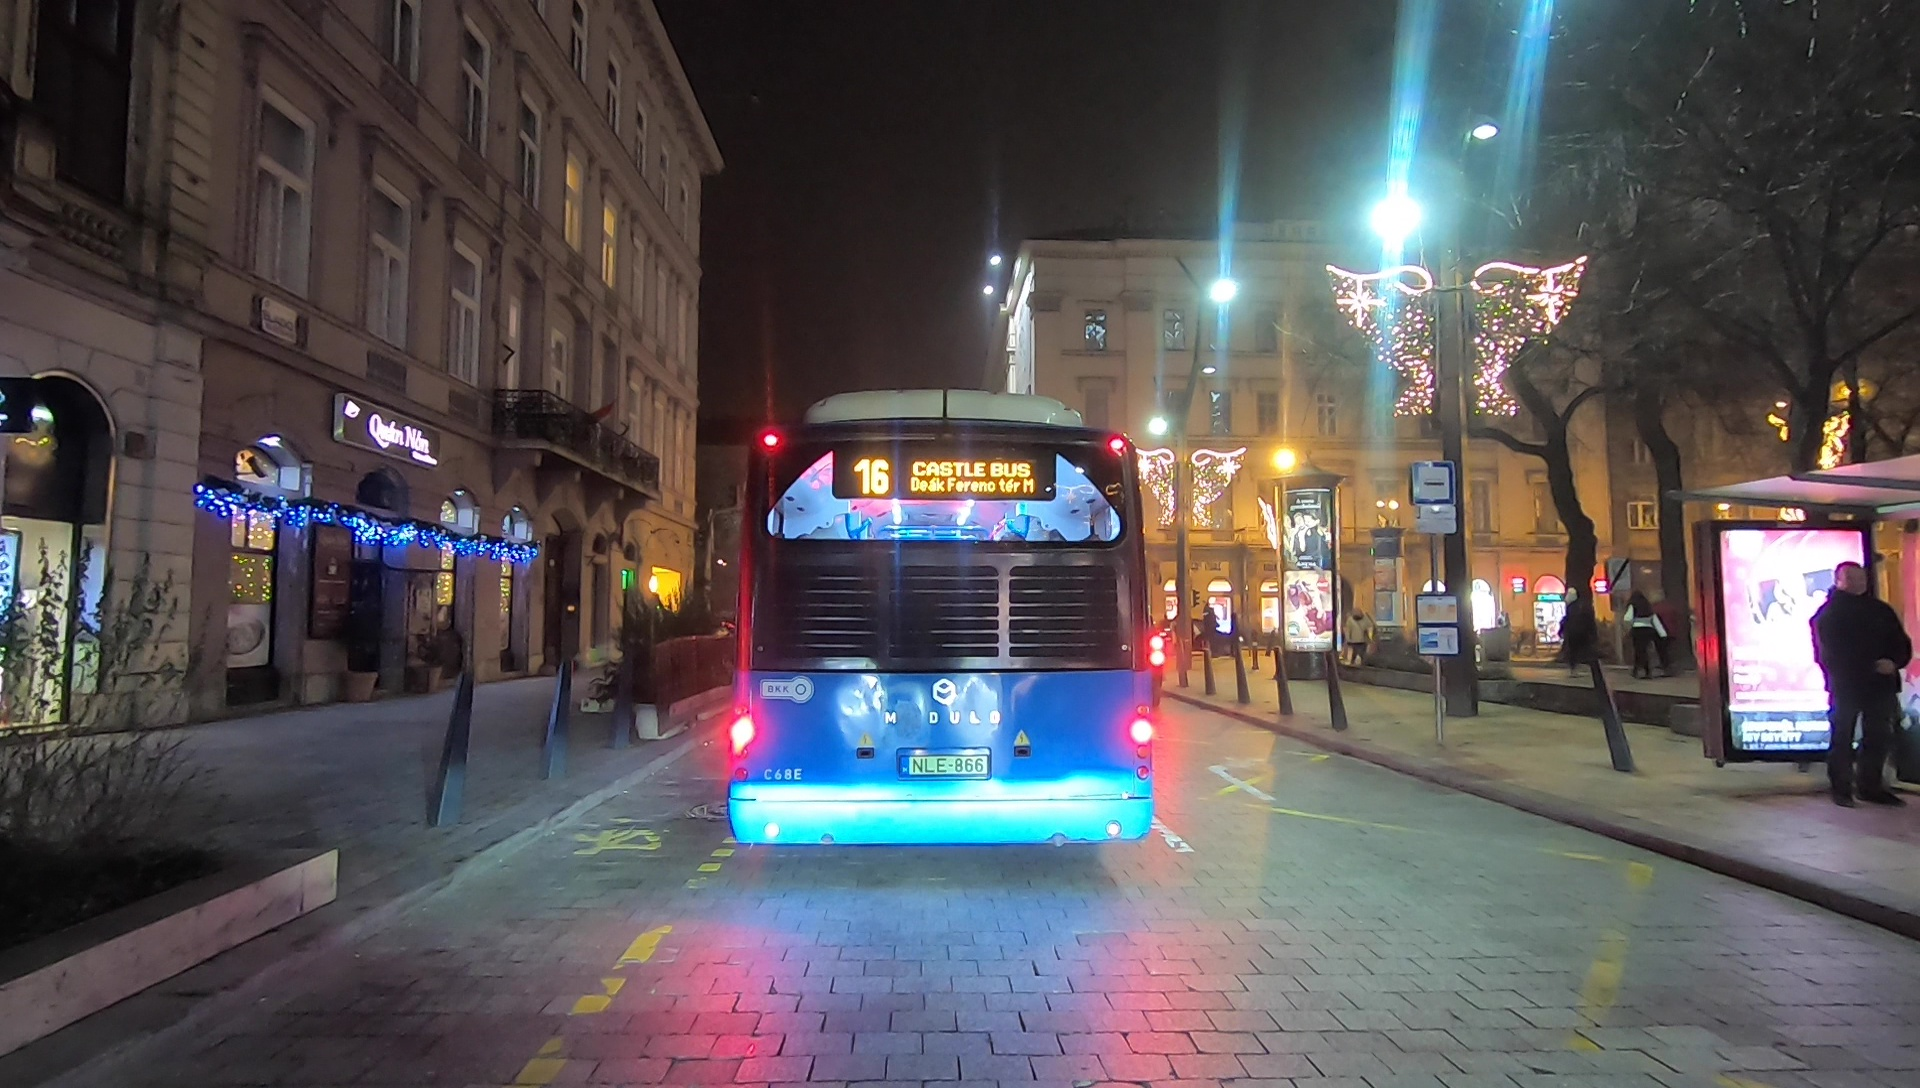person: (1810, 561, 1908, 799)
